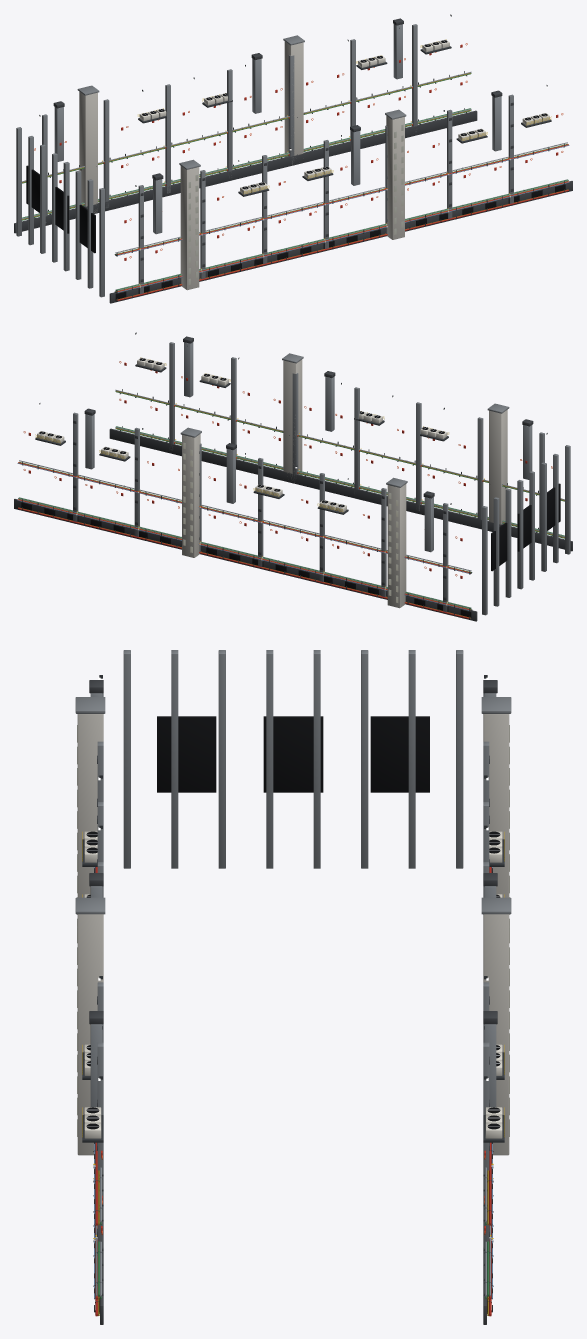
Rendered from facade_up.glb.
3 renders of one model, top to bottom at view 1: azimuth 30°, elevation 25°; view 2: azimuth 150°, elevation 25°; view 3: azimuth 270°, elevation 25°, orthographic. The views are drawn at different scales.
Parts seen in each view (by area): view 1: facade_up; view 2: facade_up; view 3: facade_up.
Part boxes in pixels (box(x1,y1,x2,y2)): facade_up: box(14, 14, 572, 303); facade_up: box(14, 332, 572, 621); facade_up: box(75, 650, 511, 1324).
Size of the model in its own units: 181 by 45.6 by 73.4.
